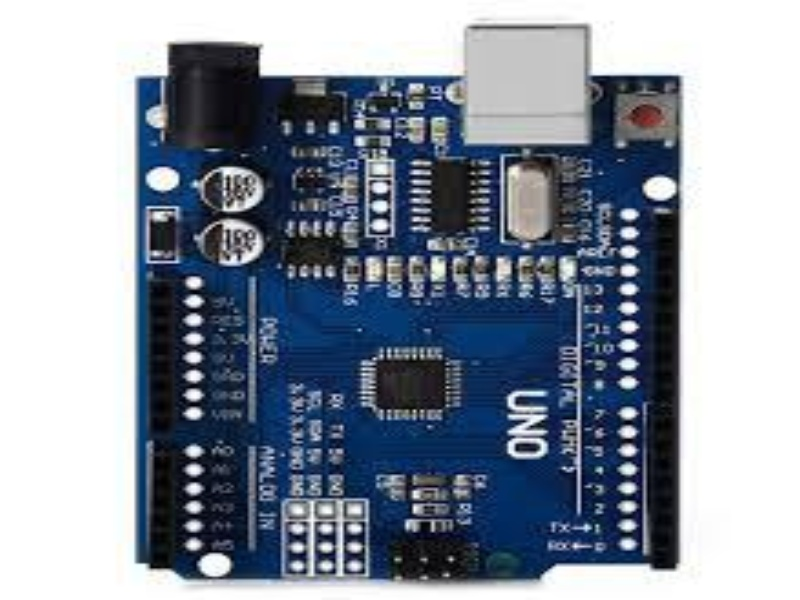uno: (112, 31, 685, 566)
